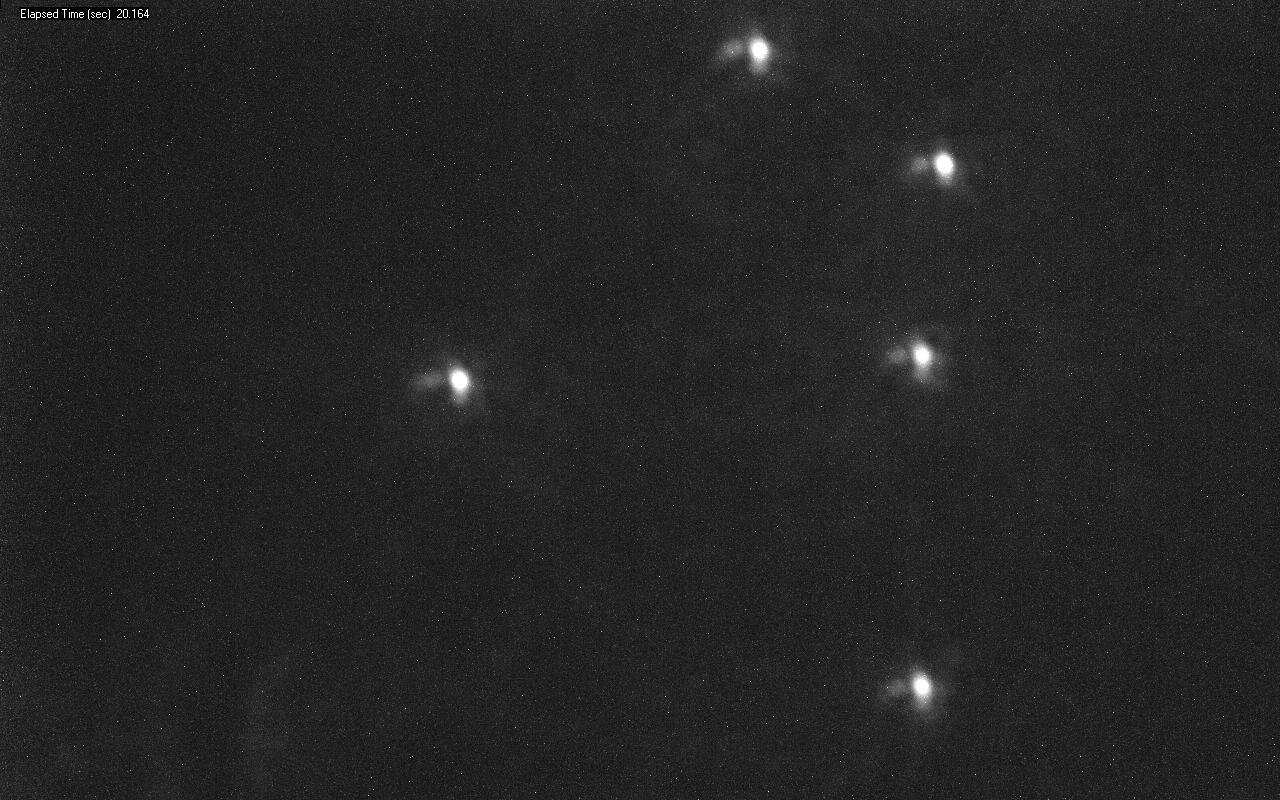Bead: (738, 37, 770, 69), (929, 151, 956, 181), (447, 367, 471, 398), (910, 342, 935, 370), (911, 673, 935, 702)
